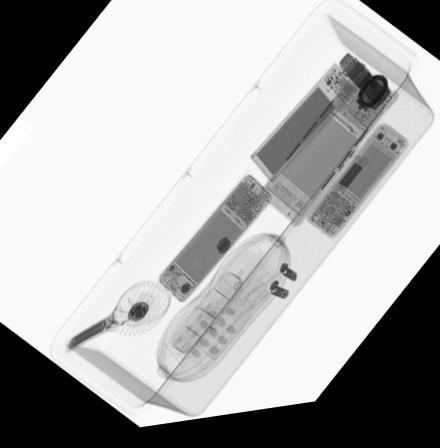Powerbank: (247, 70, 356, 189)
